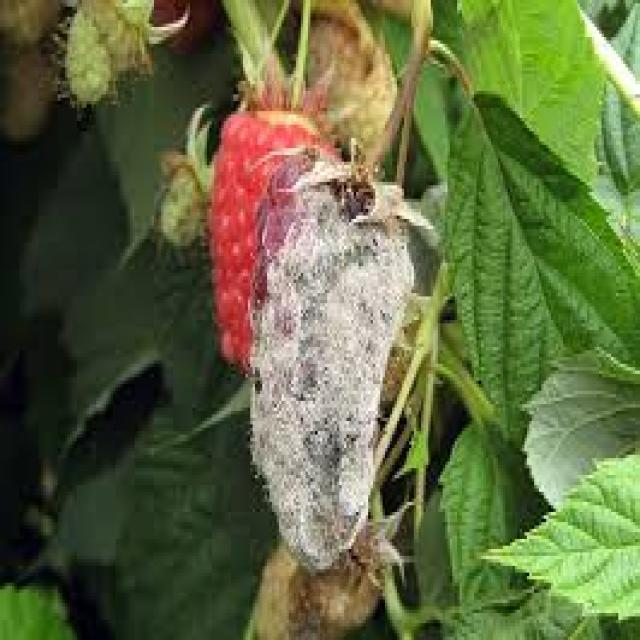Moho gris: (255, 131, 414, 562)
